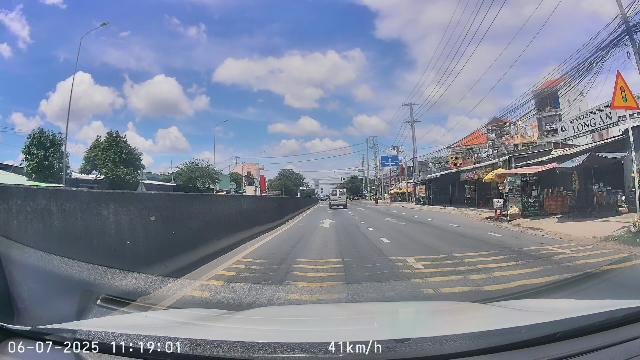209-giao-nhau-co-tin-hieu-den: (610, 69, 640, 110)
